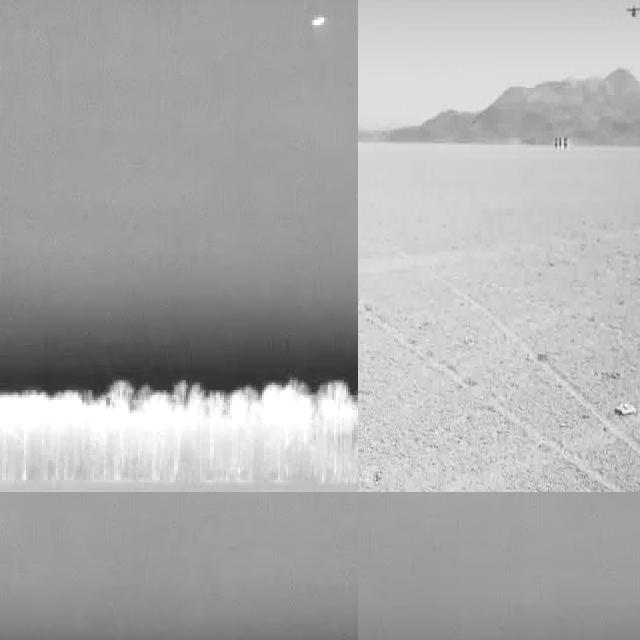1: (305, 11, 331, 34)
drone: (622, 0, 640, 22)
